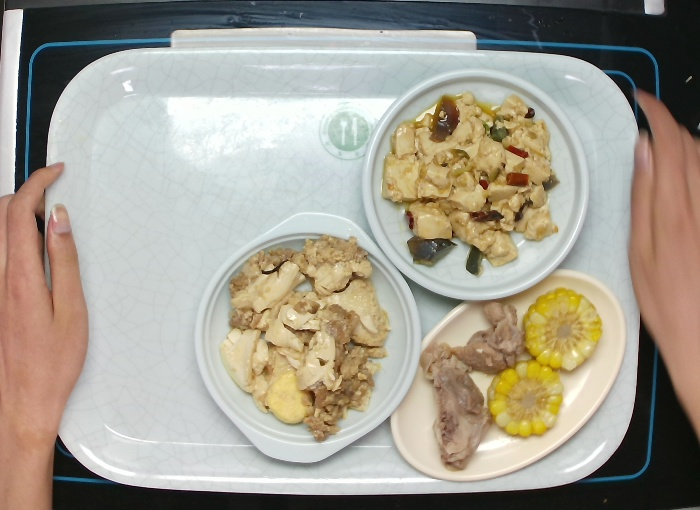JYsf-Shuang_Er_Pan: (191, 206, 427, 464)
JYsf-Tuo_Yuan_Wan: (388, 269, 630, 481)
JYsf-Xiao_Yuan_Pan: (361, 66, 586, 305)
